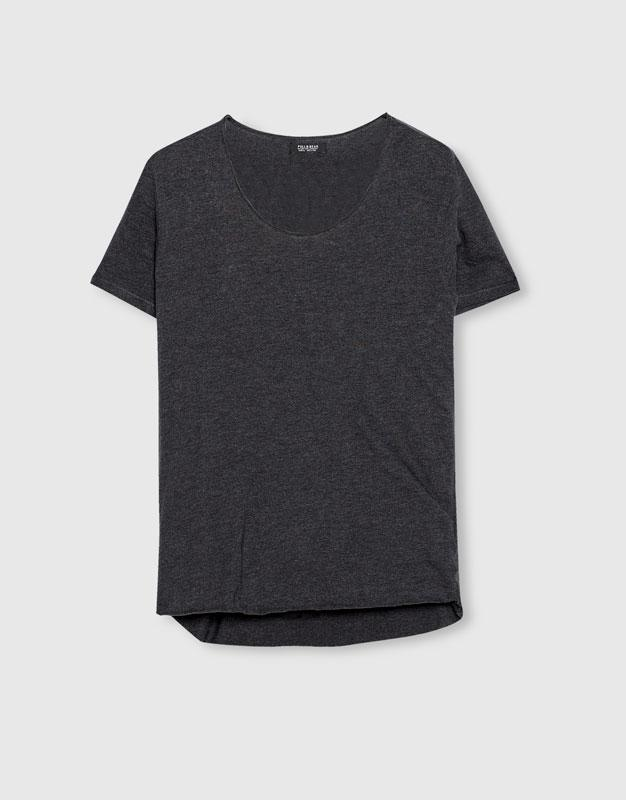teeshirt: (97, 111, 555, 702)
